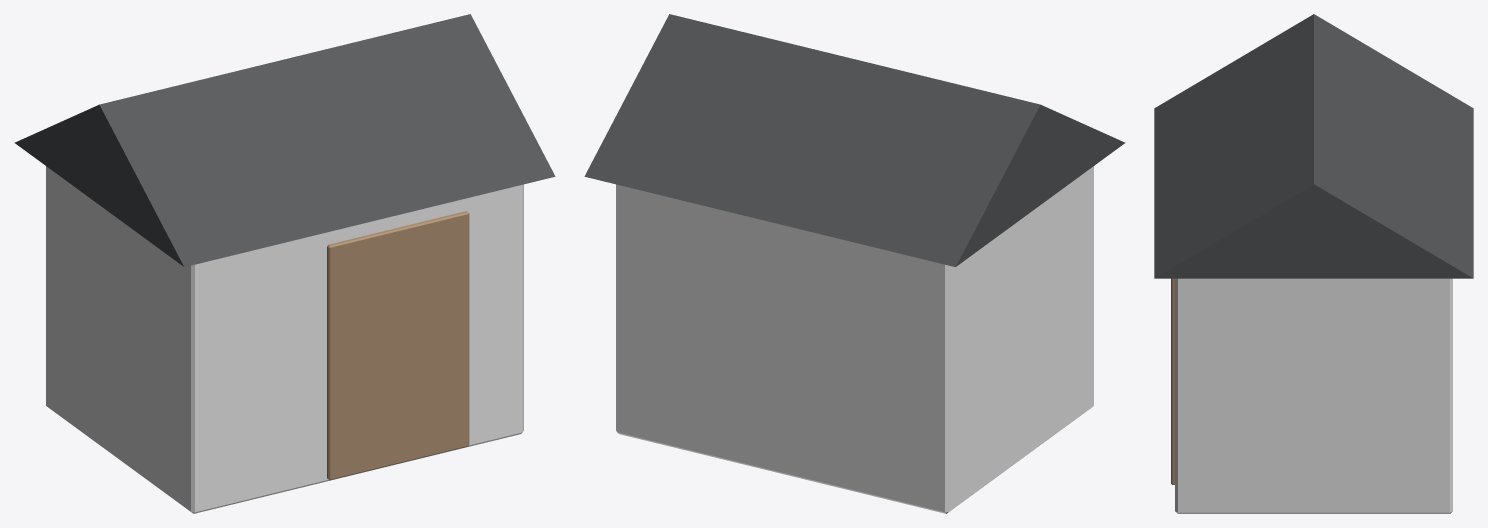
The model's file is shed.glb.
The picture shows the model from 3 angles, left to right: view 1: azimuth 30°, elevation 25°; view 2: azimuth 150°, elevation 25°; view 3: azimuth 270°, elevation 25°; orthographic projection. The views are drawn at different scales.
Visible parts, largest first — view 1: shed; view 2: shed; view 3: shed.
Boxes of the visible parts, x1=… form: shed: x1=14, y1=14, x2=555, y2=513; shed: x1=584, y1=14, x2=1125, y2=513; shed: x1=1154, y1=14, x2=1473, y2=513.
Size of the model in its own units: 2.9 by 2.7 by 2.3.
